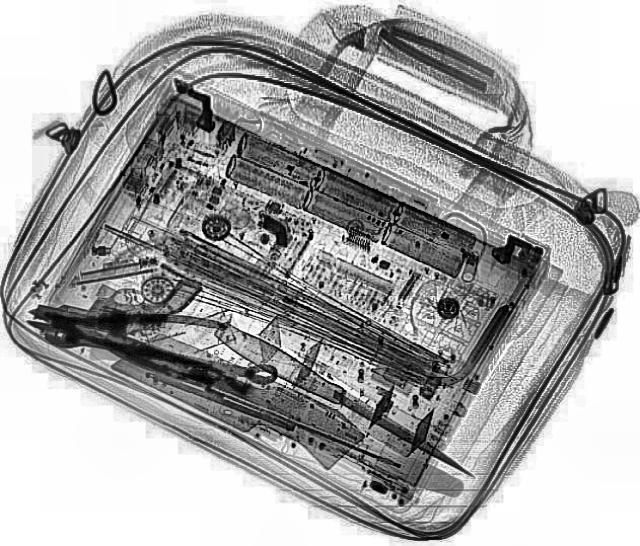Gun: (26, 251, 202, 347)
Knife: (200, 312, 496, 484)
Pliers: (17, 282, 234, 386)
Wrench: (37, 316, 279, 390)
